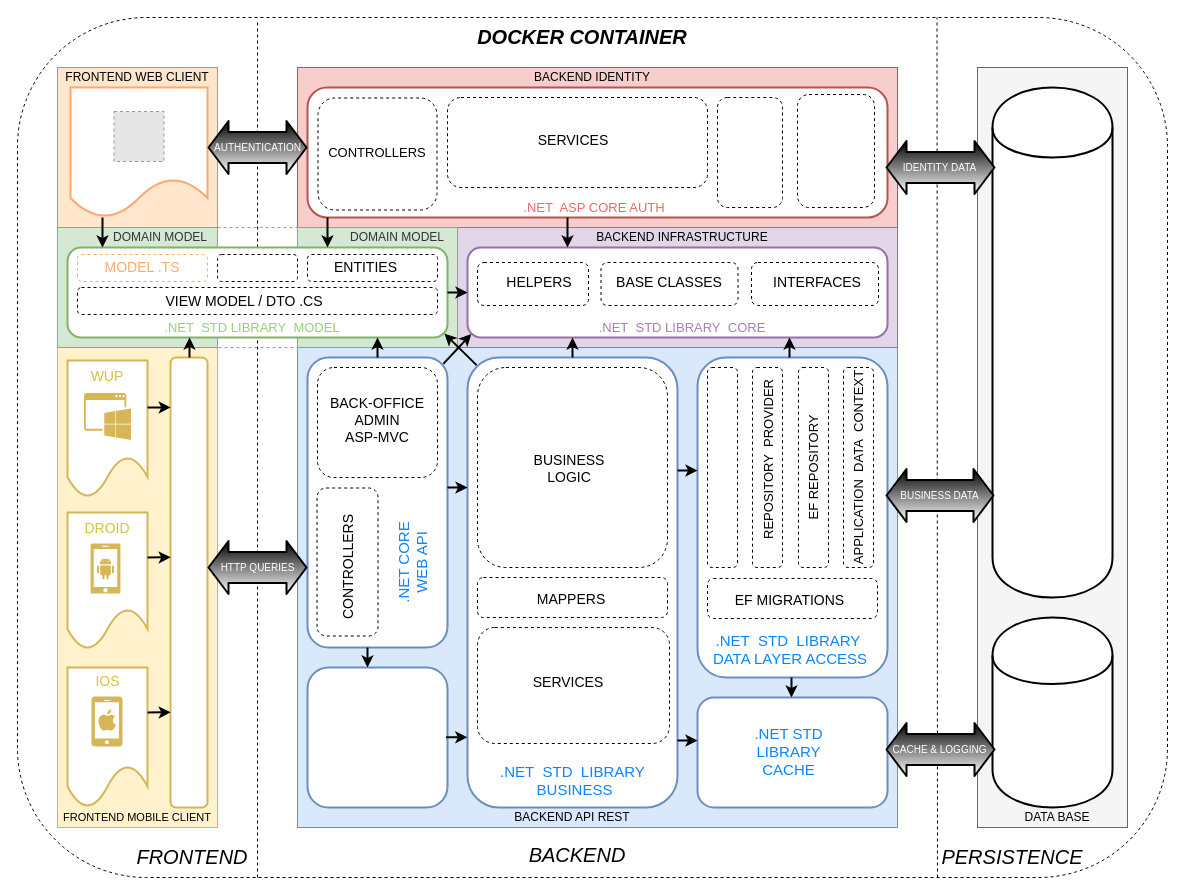
Image size: 1185x896. Some labels were removed from this diagram. Grey dashed boxes stand in for pictures. The shapes that lost their labels are listed below. From the top down, each one's box as (x1, y1, x2, y2) in pixels, then its label:
(716, 96, 782, 208): IDENTITY UNIT OF WORK
(796, 94, 874, 208): IDENTITY DATA CONTEXT
(216, 254, 298, 282): ENUMS
(991, 86, 1113, 598): MSSQL SERVER
(706, 366, 738, 568): APPLICATION UNIT OF WORK
(169, 356, 208, 808): XAMARIN FORMS SHARED CODE
(991, 616, 1113, 808): ELASTIC SEARCH
(306, 666, 448, 808): .NET STD LIBRARY REPORT
